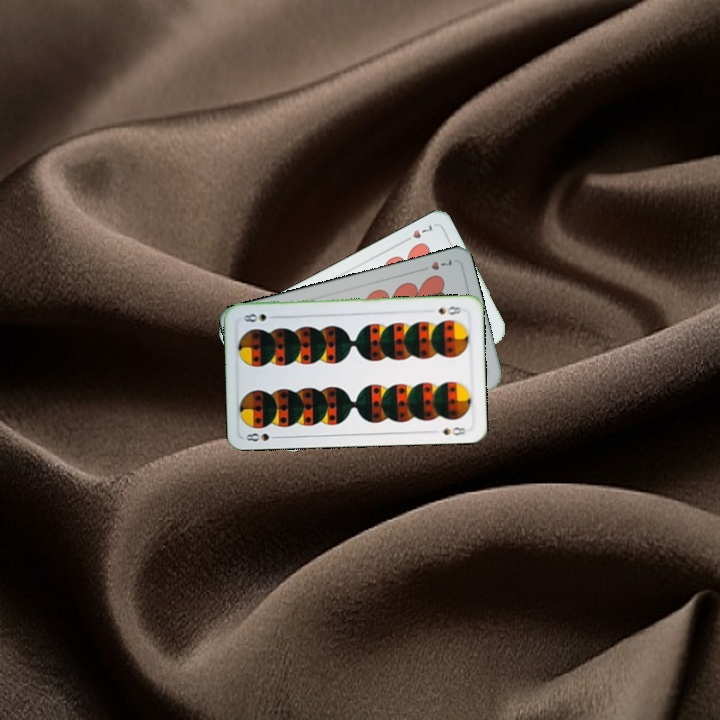H7: (399, 220, 435, 245), (416, 255, 455, 274)
S8: (242, 429, 282, 444), (435, 302, 464, 317)
